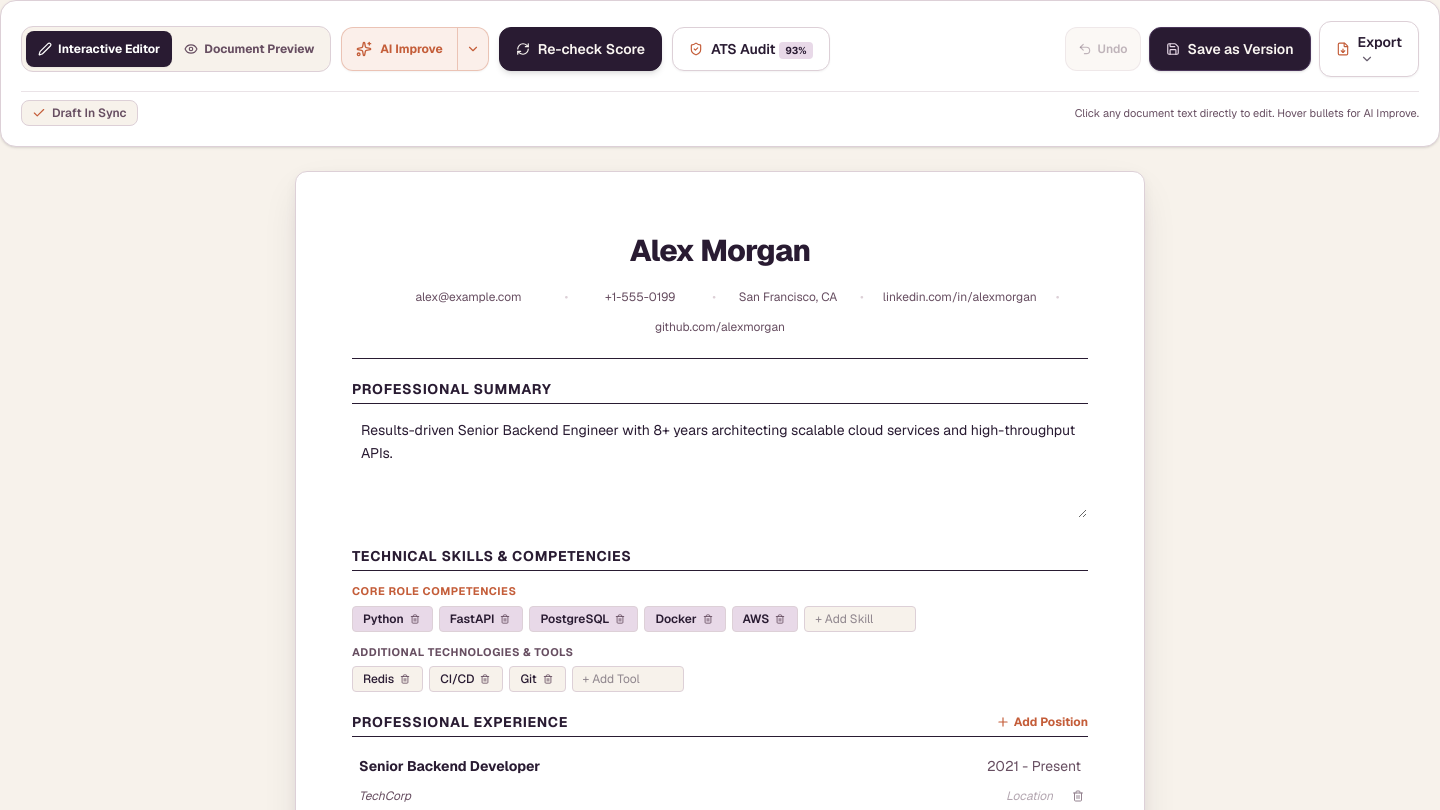
Test: Phase 6.2 Professional ATS Resume Engine - Frontend Tests › renders ATS Quality Audit button and launches the deterministic audit modal
The image size is (1440, 810).
Click the button "ATS Audit93%": (751, 49) [672,27,830,71]
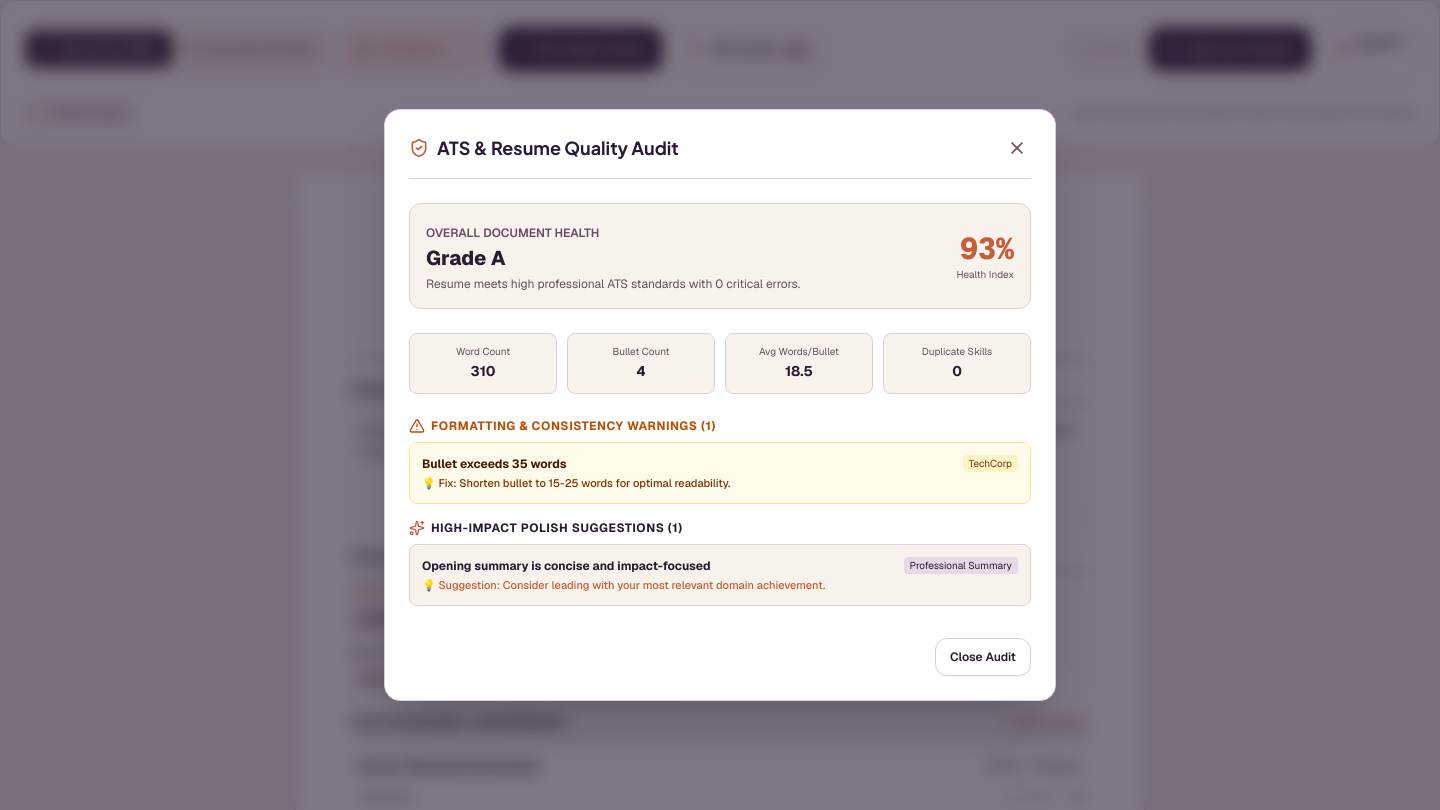
Now the heading "ATS & Resume Quality Audit" is shown, box [437,134,679,162]
Now the text "Resume meets high professional ATS standards" is shown, box [426,276,800,292]
Now the text "310" is shown, box [471,362,496,380]
# Close button
Click the button "Close Audit": (983, 657) [935,638,1031,676]
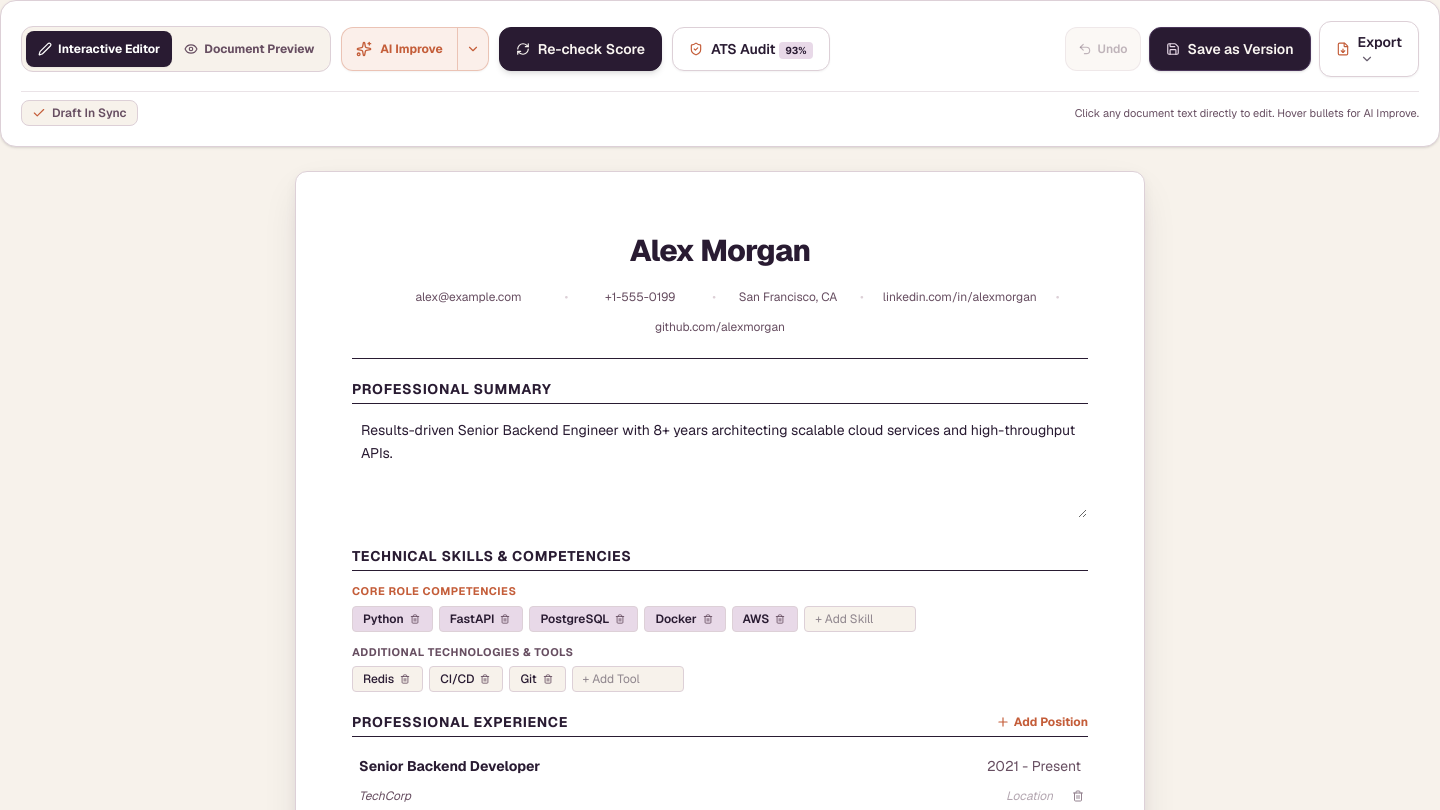
Now the heading "ATS & Resume Quality Audit" is gone
